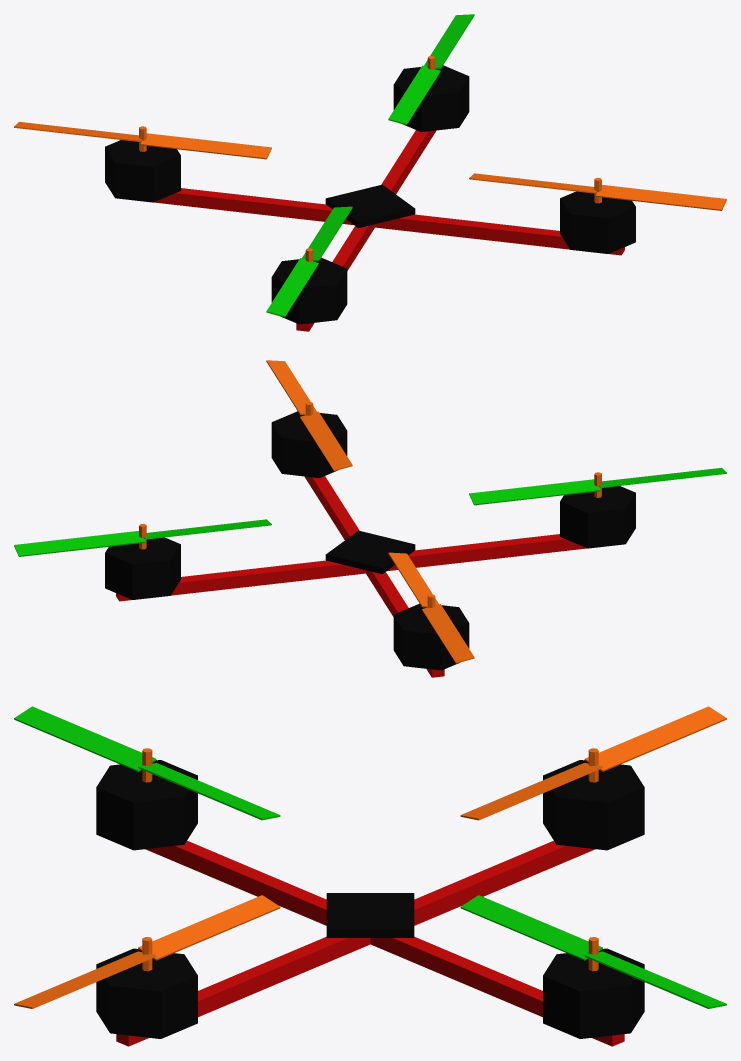
The model's file is rrbot.dae.
3 renders of one model, top to bottom at view 1: azimuth 30°, elevation 25°; view 2: azimuth 150°, elevation 25°; view 3: azimuth 270°, elevation 25°, orthographic. The views are drawn at different scales.
Parts seen in each view (by area): view 1: bar0, motor1_link, motor3_link, motor2_link, motor0_link, FC, bar1, motor3_blade1, motor1_blade1, motor0_blade2, motor2_blade2, motor2_blade1 (+3 smaller); view 2: bar1, motor0_link, motor2_link, motor3_link, motor1_link, FC, bar0, motor2_blade1, motor0_blade1, motor1_blade2, motor3_blade2, motor3_blade1 (+3 smaller); view 3: bar1, bar0, motor2_link, motor3_link, motor0_link, motor1_link, FC, motor2_blade2, motor3_blade2, motor0_blade2, motor1_blade2, motor0_blade1 (+3 smaller).
Part boxes in pixels (x1,y1,x2,y2): bar0: [154, 188, 624, 255]; motor1_link: [560, 191, 635, 253]; motor3_link: [105, 140, 180, 202]; motor2_link: [271, 257, 347, 324]; motor0_link: [393, 65, 469, 131]; FC: [325, 184, 415, 228]; bar1: [296, 130, 436, 331]; motor3_blade1: [140, 133, 271, 159]; motor1_blade1: [595, 185, 726, 210]; motor0_blade2: [388, 65, 440, 125]; motor2_blade2: [266, 258, 318, 317]; motor2_blade1: [302, 206, 352, 261]; bar1: [116, 534, 586, 601]; motor0_link: [105, 537, 180, 599]; motor2_link: [560, 486, 635, 548]; motor3_link: [393, 603, 469, 670]; motor1_link: [271, 411, 347, 477]; FC: [325, 530, 415, 574]; bar0: [304, 476, 444, 677]; motor2_blade1: [469, 479, 600, 505]; motor0_blade1: [14, 531, 145, 556]; motor1_blade2: [300, 411, 352, 471]; motor3_blade2: [422, 604, 474, 663]; motor3_blade1: [388, 552, 438, 607]; bar1: [145, 840, 624, 1046]; bar0: [116, 840, 595, 1046]; motor2_link: [96, 760, 197, 850]; motor3_link: [543, 760, 644, 850]; motor0_link: [543, 948, 644, 1038]; motor1_link: [96, 948, 197, 1038]; FC: [326, 893, 414, 937]; motor2_blade2: [14, 706, 156, 771]; motor3_blade2: [584, 706, 726, 771]; motor0_blade2: [460, 895, 602, 960]; motor1_blade2: [138, 895, 280, 960]; motor0_blade1: [584, 951, 726, 1008].
Size of the model in its own units: 0.4065 by 0.4065 by 0.0595.
